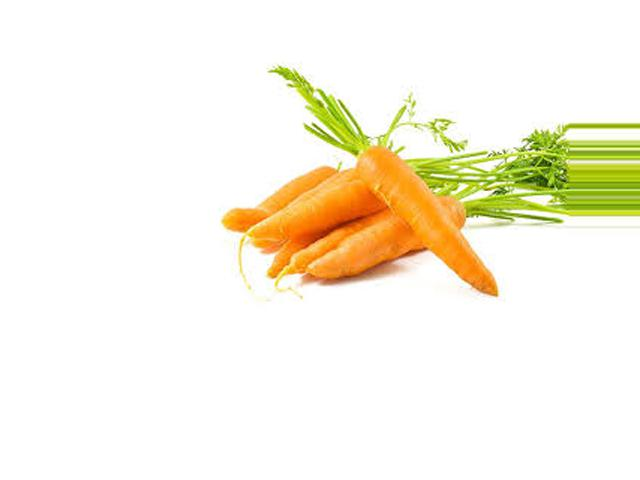carrot: (277, 194, 474, 276)
